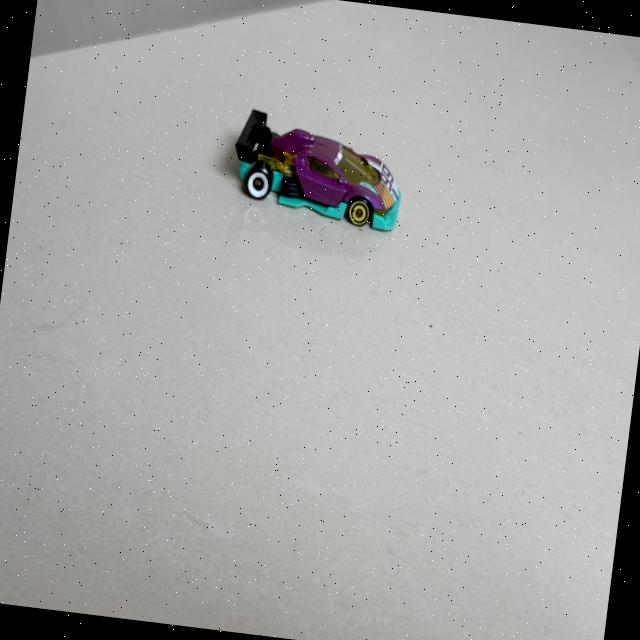cars: (235, 109, 400, 230)
